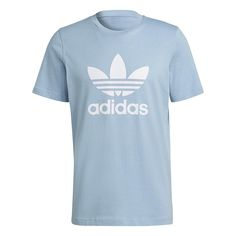adidas Originale: (82, 52, 154, 119)
